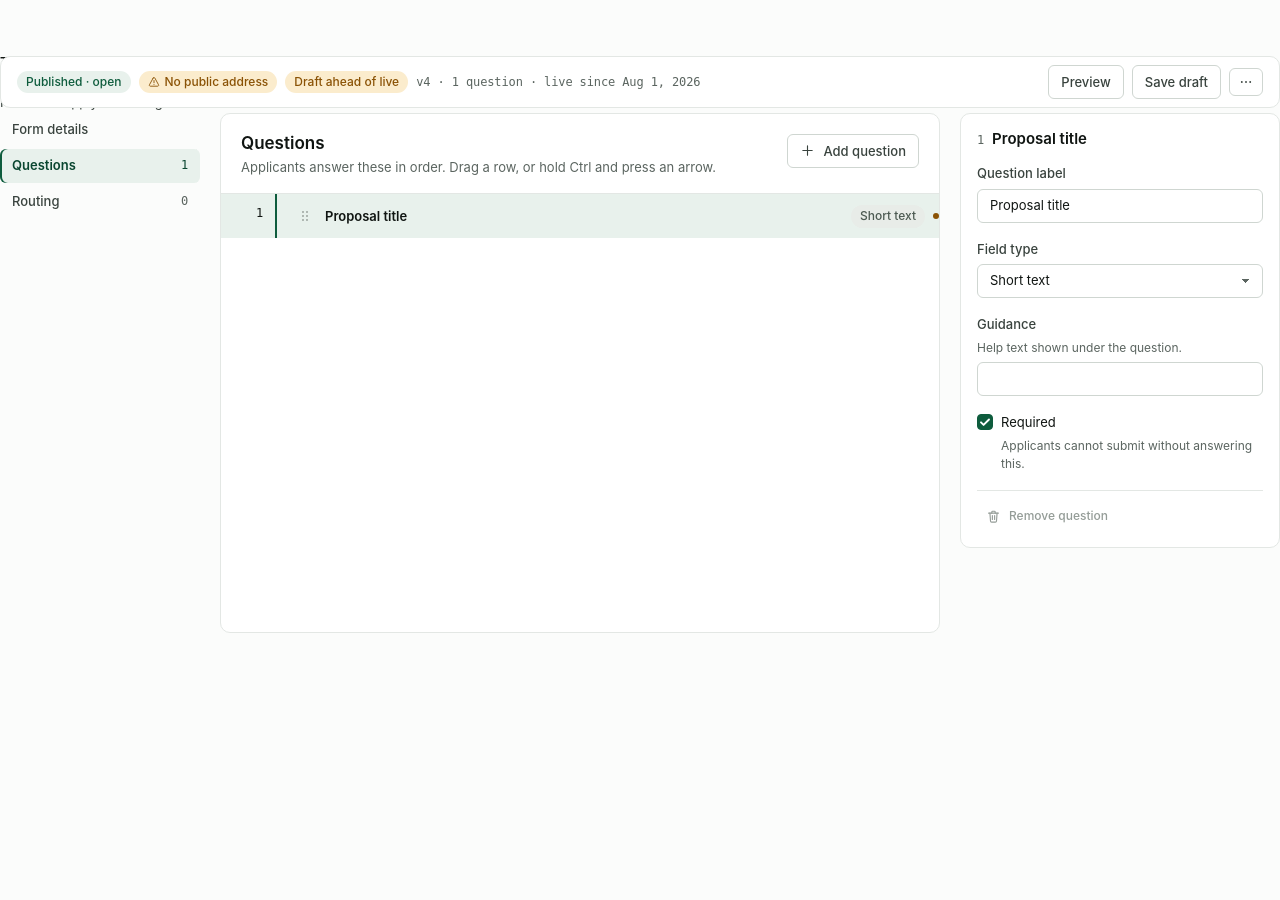
Scenario: the live form beside the draft › shows each version under its own tab so the two can actually be compared
The width and height of the screenshot is (1280, 900).
Check: the text "Draft ahead of live" is shown, box [285, 71, 408, 93]
Click the button "Preview" at [1086, 82], box [1048, 65, 1124, 99]
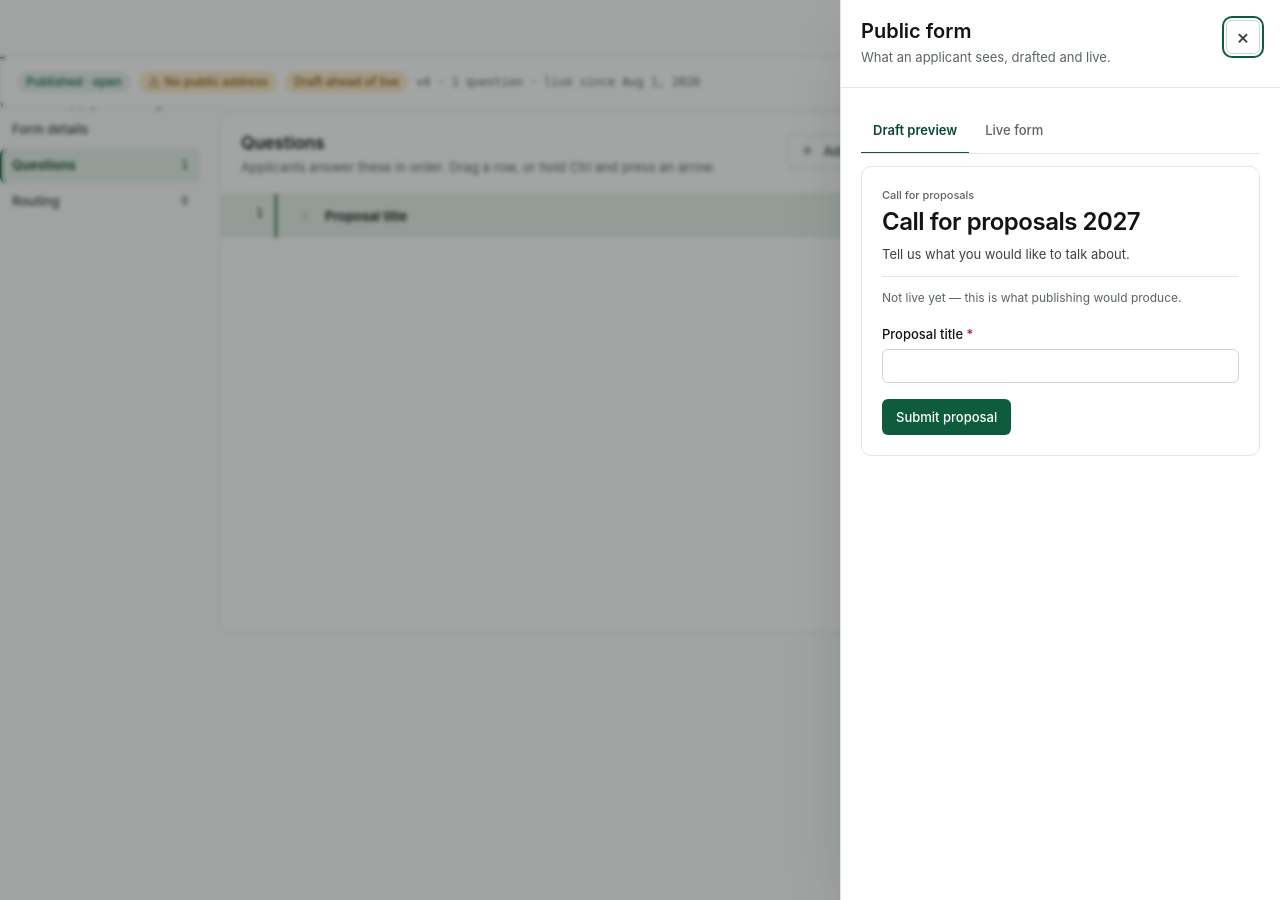
Check: the text "Call for proposals 2026" is not shown
Check: the text "Call for proposals 2027" is shown, box [882, 207, 1140, 236]
Click the tab "Live form" at [1014, 131], box [973, 108, 1055, 154]
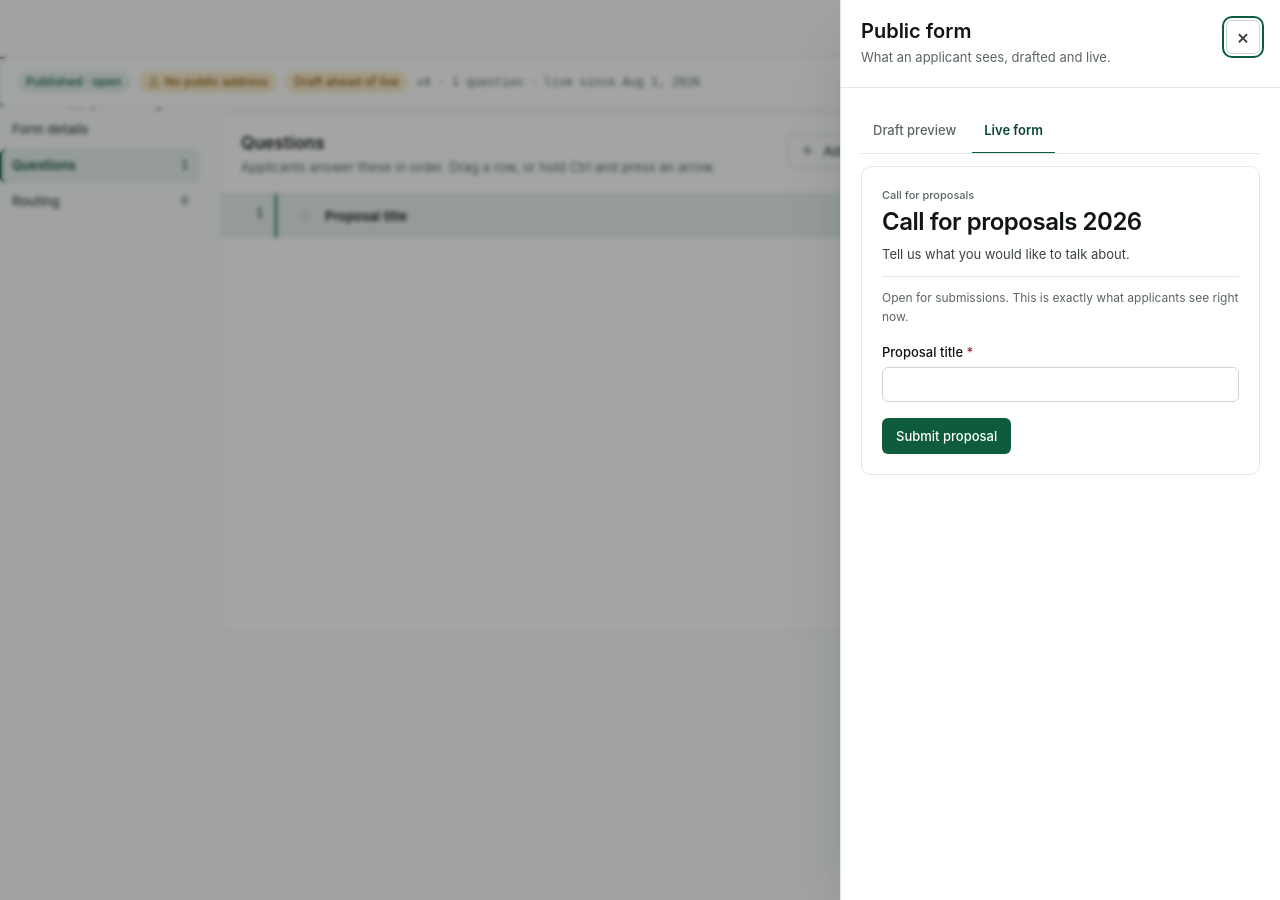
Check: the text "Call for proposals 2026" is shown, box [882, 207, 1142, 236]
Check: the text "This is exactly what applicants see right now" is shown, box [882, 290, 1238, 324]
